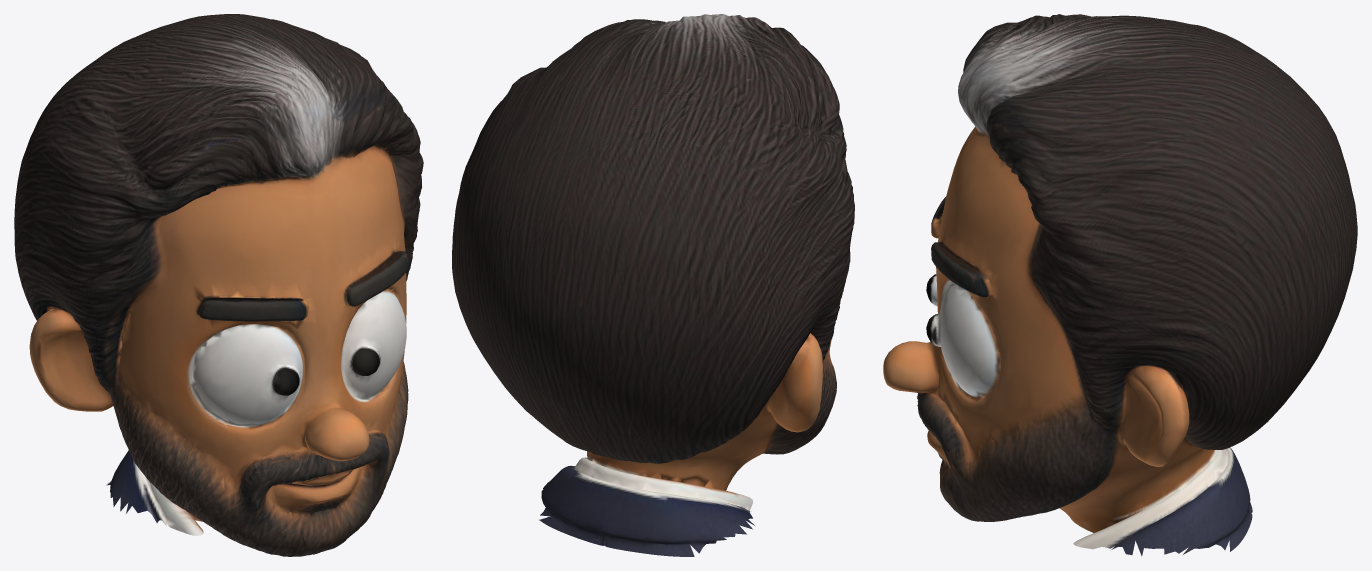
File: nat-head.glb
The picture shows the model from 3 angles, left to right: view 1: azimuth 30°, elevation 25°; view 2: azimuth 150°, elevation 25°; view 3: azimuth 270°, elevation 25°; orthographic projection. The views are drawn at different scales.
Visible parts, largest first — view 1: Face; view 2: Face; view 3: Face.
Part boxes in pixels (x1,y1,x2,y2): Face: [14, 14, 423, 556]; Face: [452, 14, 854, 556]; Face: [883, 14, 1357, 556].
Size of what is drawn, in the model's own units: 0.8401 by 1.04 by 0.9328.
Materials: 2 (1 with a texture image).
